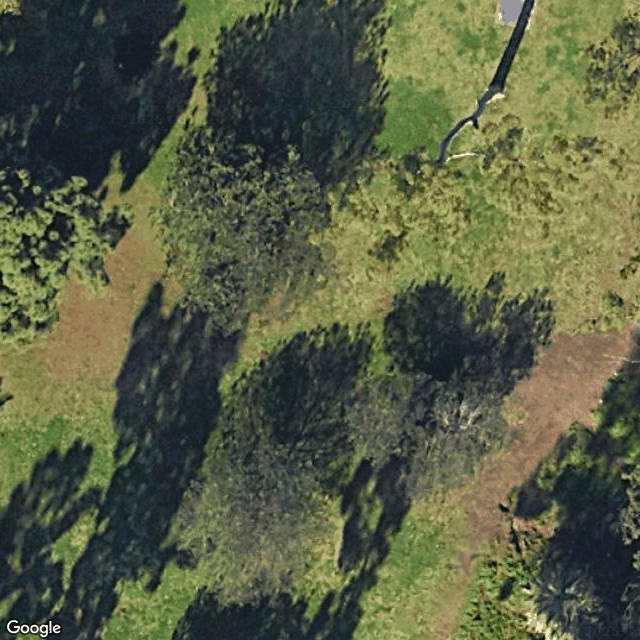palm: (508, 544, 603, 640)
